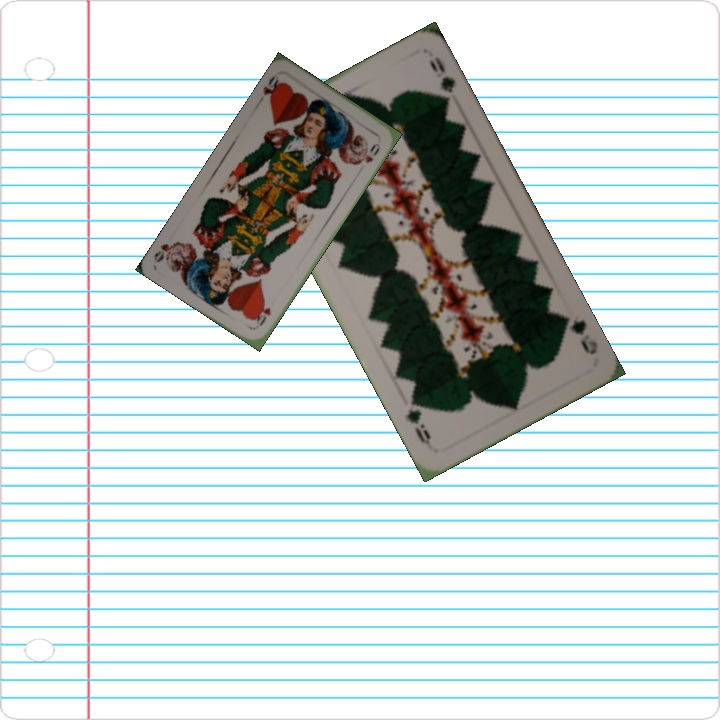G9: (556, 311, 601, 357)
HO: (259, 70, 285, 106), (252, 300, 274, 329)
